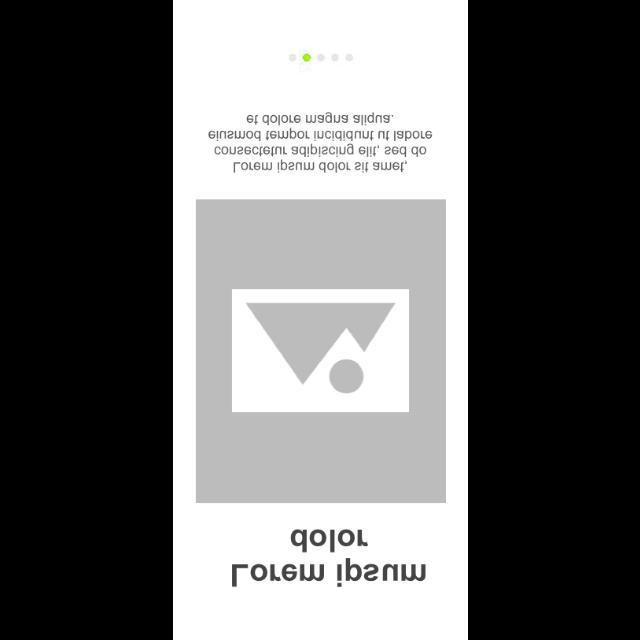image: (196, 199, 446, 503)
pageindicator: (288, 54, 354, 62)
text: (208, 111, 432, 173), (230, 528, 426, 588)
